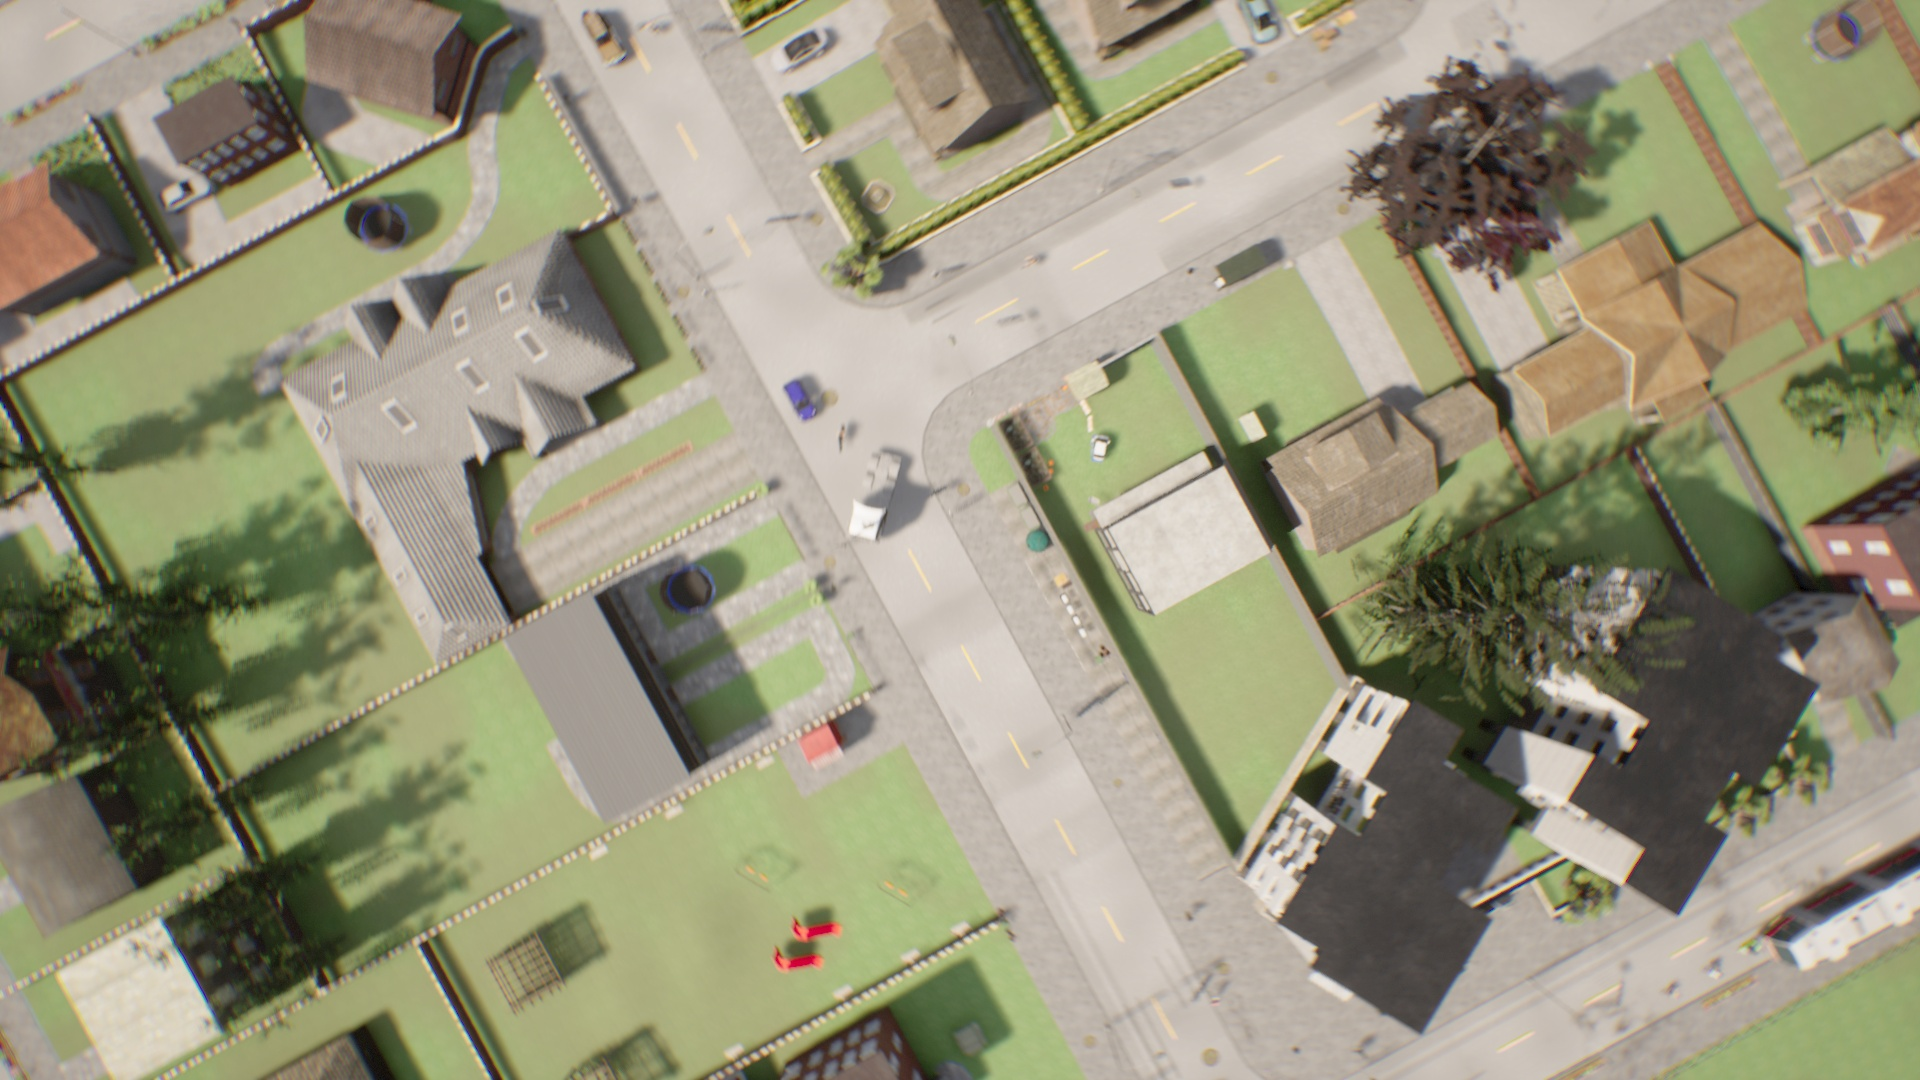Car: (576, 11, 622, 63), (1240, 2, 1287, 47), (779, 380, 819, 418)
Truck: (846, 443, 910, 545)
